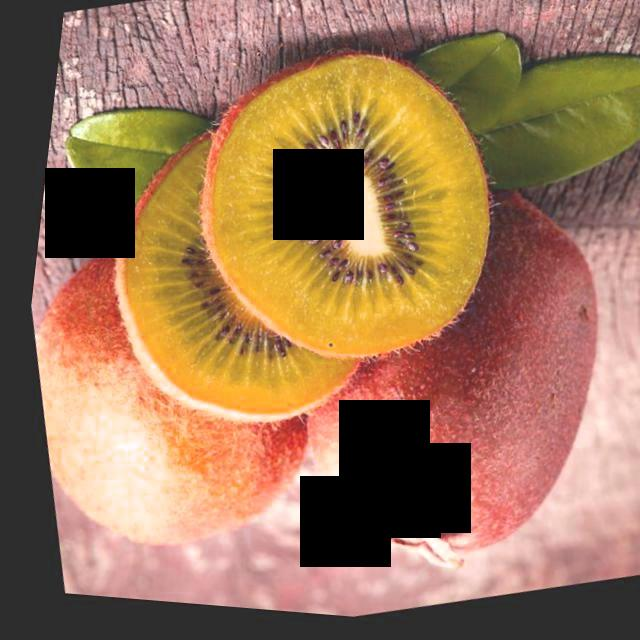kiwi: (240, 154, 640, 603), (5, 198, 353, 591)
